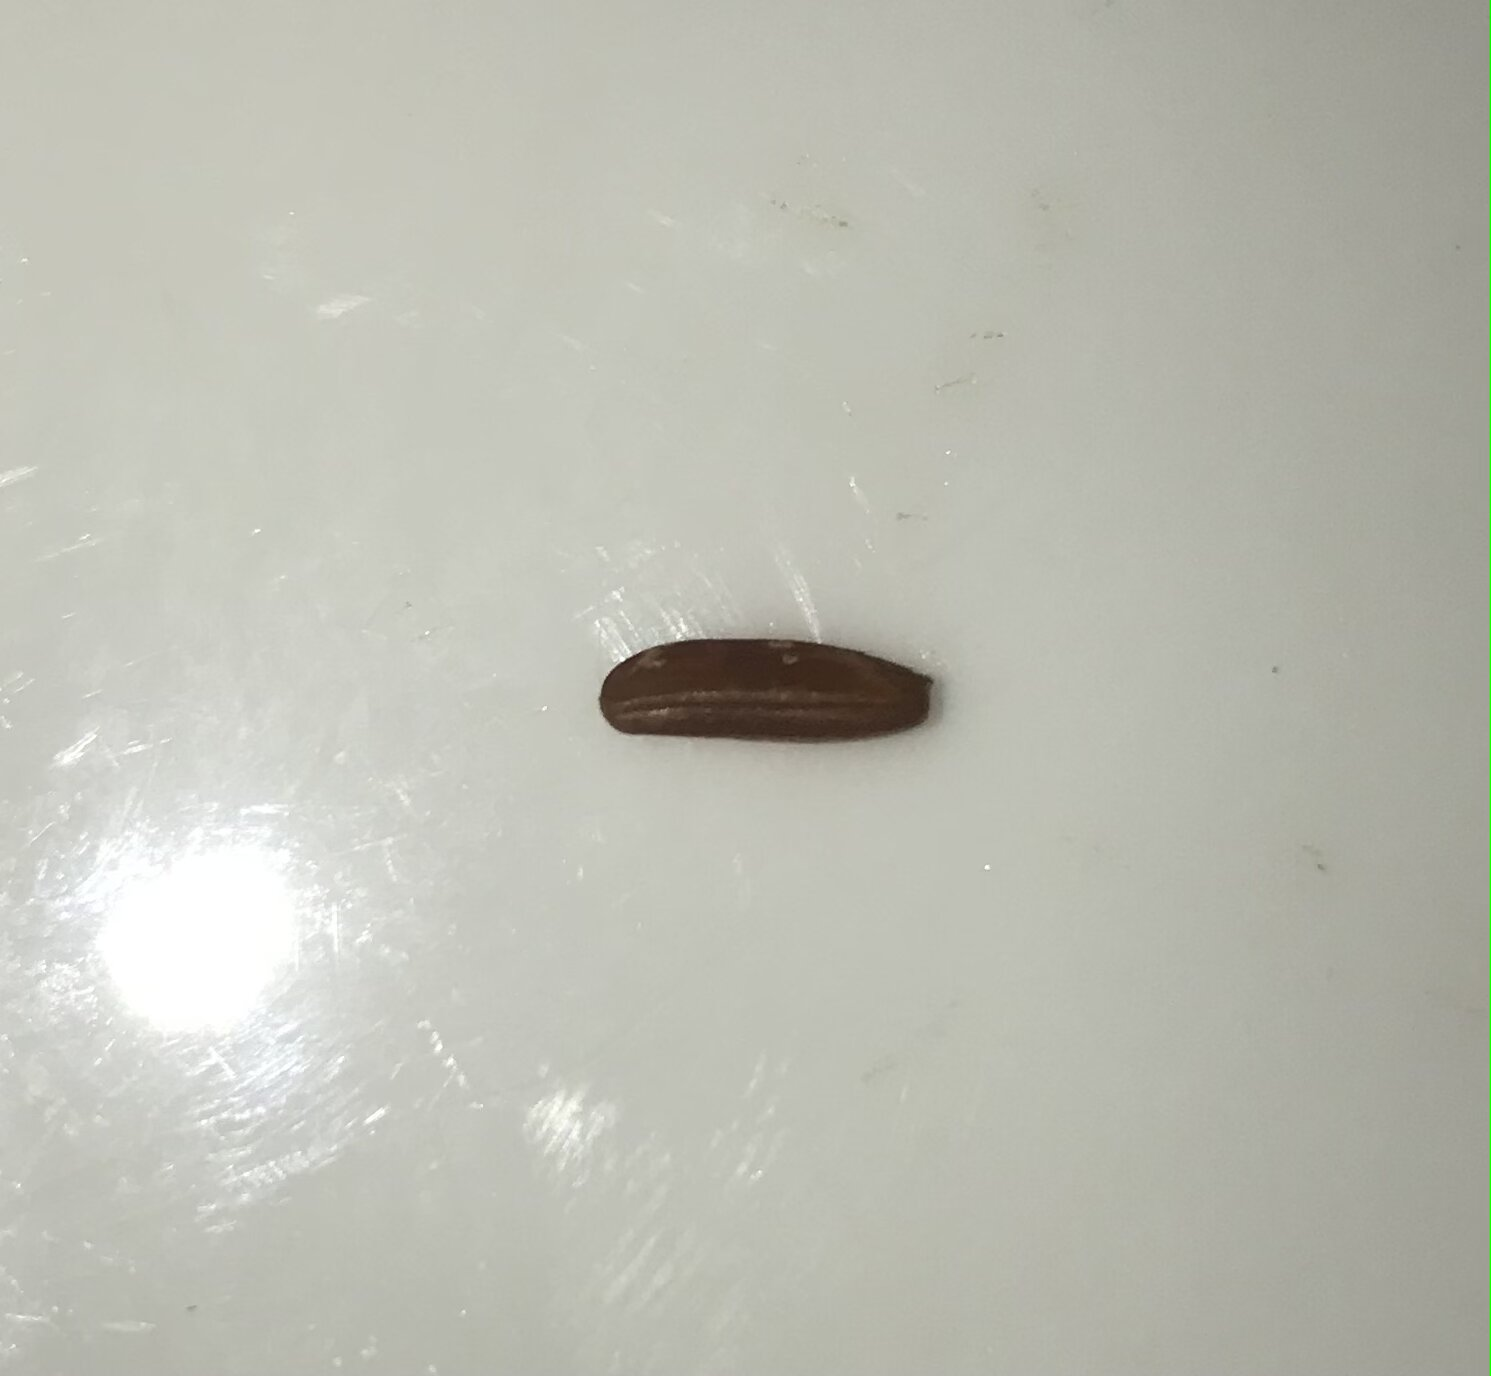Gao Huyet Rong: (594, 608, 943, 780)
